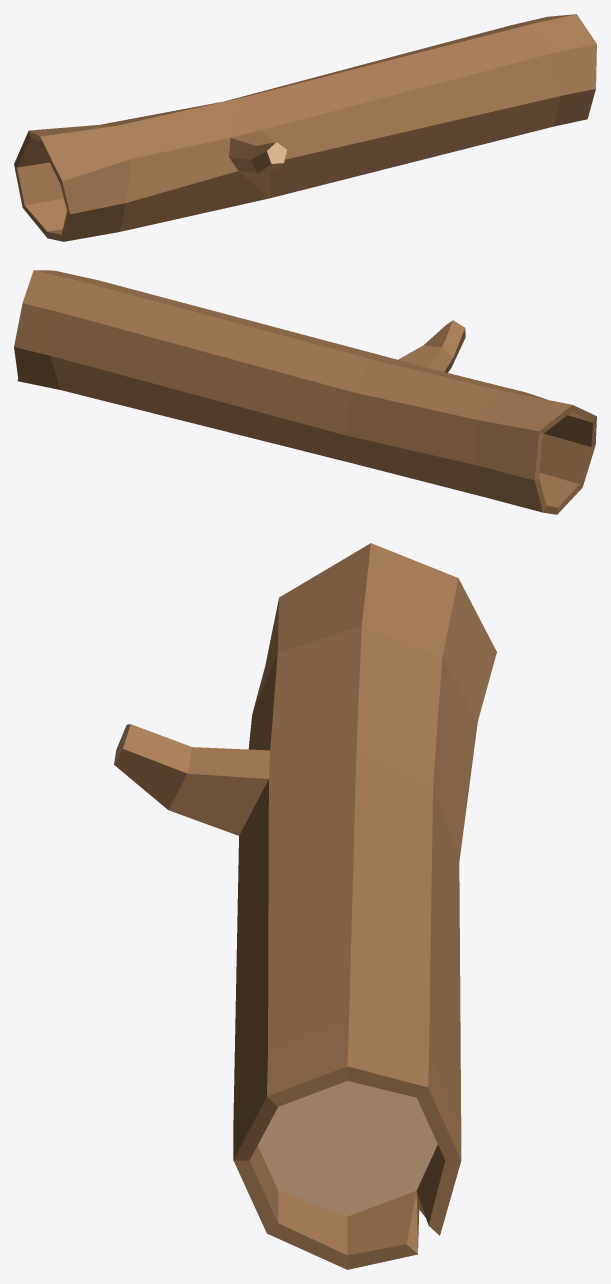
The model's file is Pine_Log_08_LOD.fbx.
3 renders of one model, top to bottom at view 1: azimuth 30°, elevation 25°; view 2: azimuth 150°, elevation 25°; view 3: azimuth 270°, elevation 25°, orthographic. The views are drawn at different scales.
Visible parts, largest first — view 1: Pine_Log_08_LOD0; view 2: Pine_Log_08_LOD0; view 3: Pine_Log_08_LOD0.
Boxes of the visible parts, x1,y1,x2,y2 form: Pine_Log_08_LOD0: [14, 14, 596, 241]; Pine_Log_08_LOD0: [14, 270, 596, 514]; Pine_Log_08_LOD0: [114, 543, 496, 1269].
Size of what is drawn, in the model's own units: 211 by 41.35 by 65.89.
